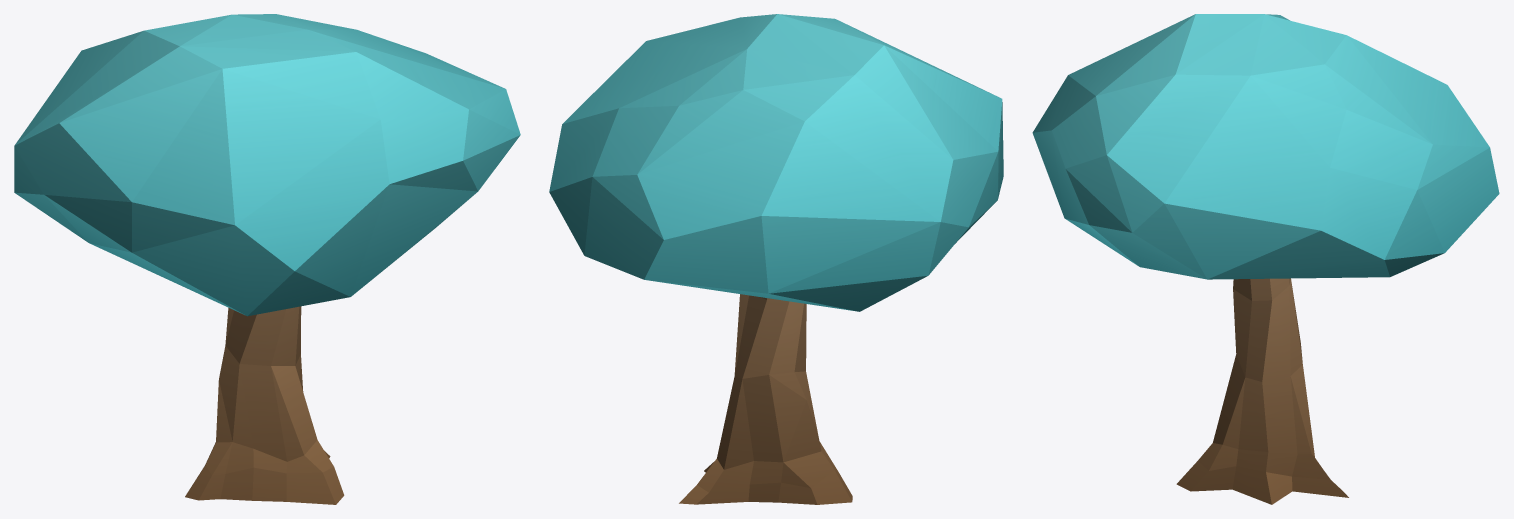
Rendered from tree_mammoth_blue.fbx.
The picture shows the model from 3 angles, left to right: view 1: azimuth 30°, elevation 25°; view 2: azimuth 150°, elevation 25°; view 3: azimuth 270°, elevation 25°; orthographic projection. The views are drawn at different scales.
Visible parts, largest first — view 1: tree_mammoth_blue; view 2: tree_mammoth_blue; view 3: tree_mammoth_blue.
Boxes of the visible parts, x1,y1,x2,y2 form: tree_mammoth_blue: [14, 14, 520, 504]; tree_mammoth_blue: [549, 14, 1003, 504]; tree_mammoth_blue: [1032, 14, 1499, 504].
Bounding box in the file's own units: 7.5 × 8 × 8.
Materials: 1 (1 with a texture image).
